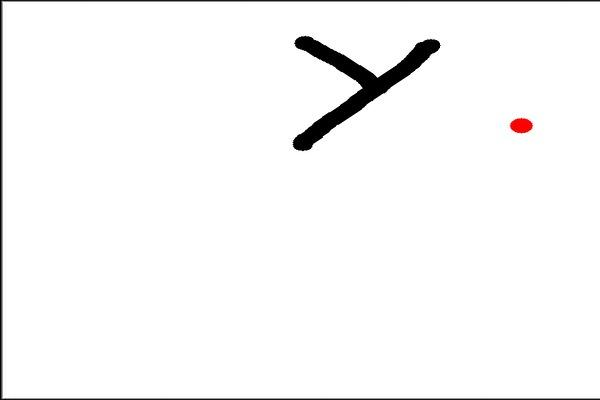Y: (278, 25, 449, 182)
